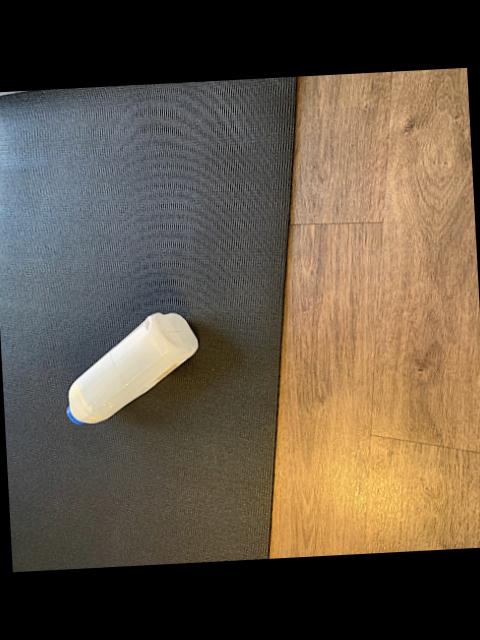plastic: (65, 312, 195, 423)
